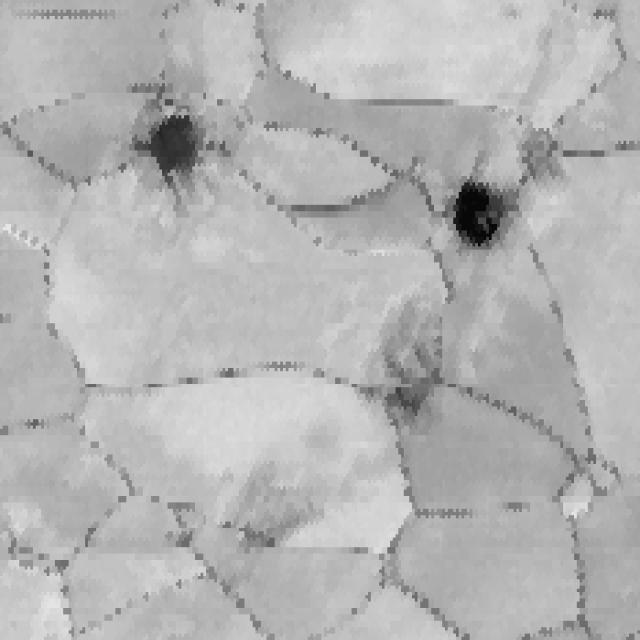good_void: (213, 451, 326, 559), (368, 294, 450, 427), (127, 103, 201, 193), (441, 171, 517, 256), (504, 111, 564, 190)
